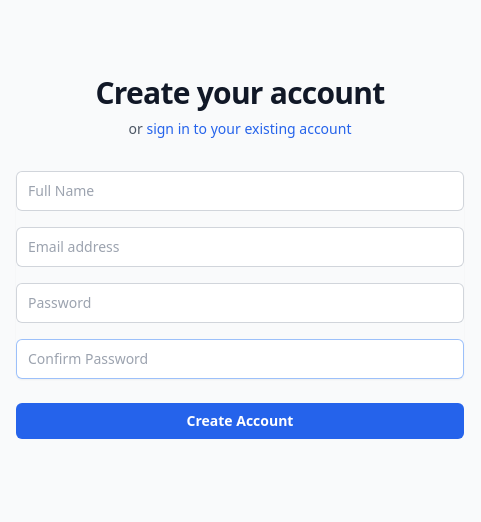
Test case: RegisterPage › Form Validation › prevents submission with short name
Type "AB" into the field with placeholder "Full Name" at [240, 191], box [16,171,464,211]
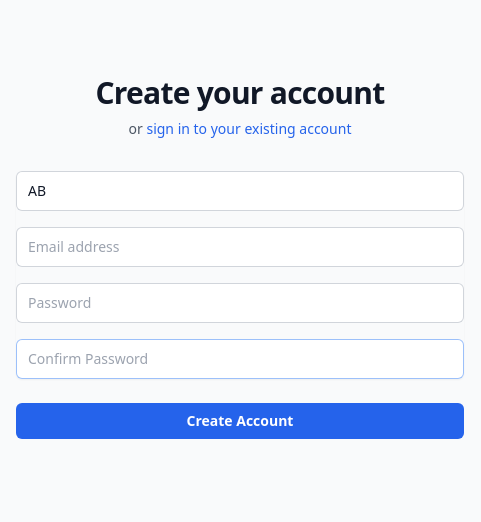
Type "test@example.com" into the field with placeholder "Email address" at [240, 247], box [16,227,464,267]
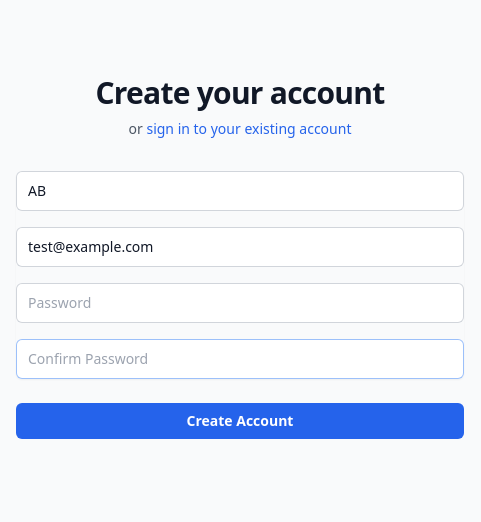
Type "Strong123!" into the password field with placeholder "Password" at [240, 303], box [16,283,464,323]
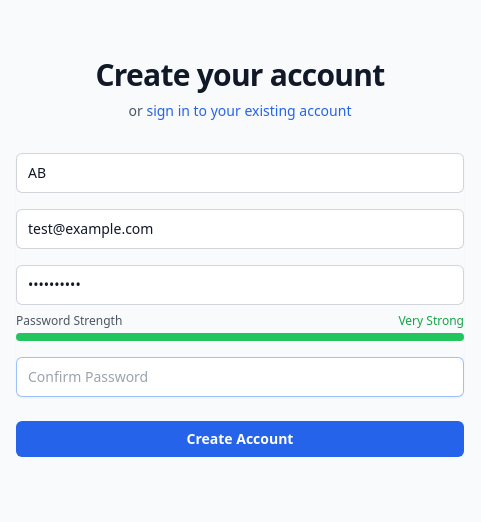
Type "Strong123!" into the password field with placeholder "Confirm Password" at [240, 377], box [16,357,464,397]
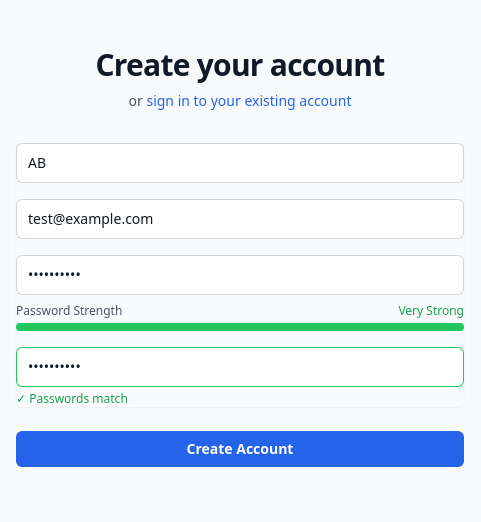
Click the button "Create Account" at [240, 449], box [16,431,464,467]
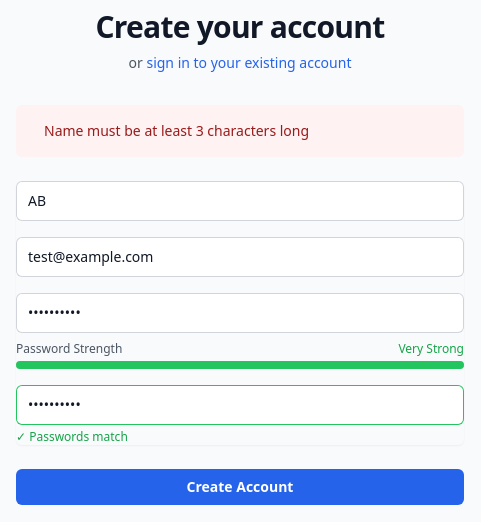
Expected: the heading "Name must be at least 3 characters long" is shown, [44,121,309,141]
